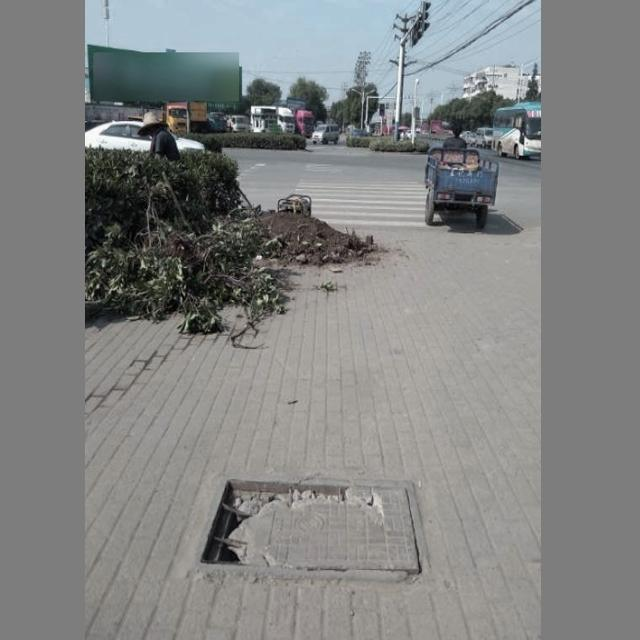broke: (191, 473, 433, 584)
